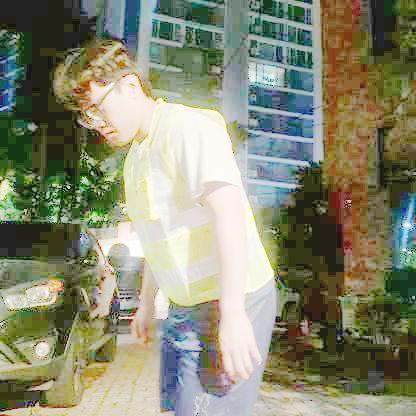no-helmet: (52, 38, 143, 114)
vest: (119, 97, 278, 309)
